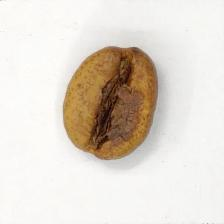NG: (84, 52, 139, 146)
